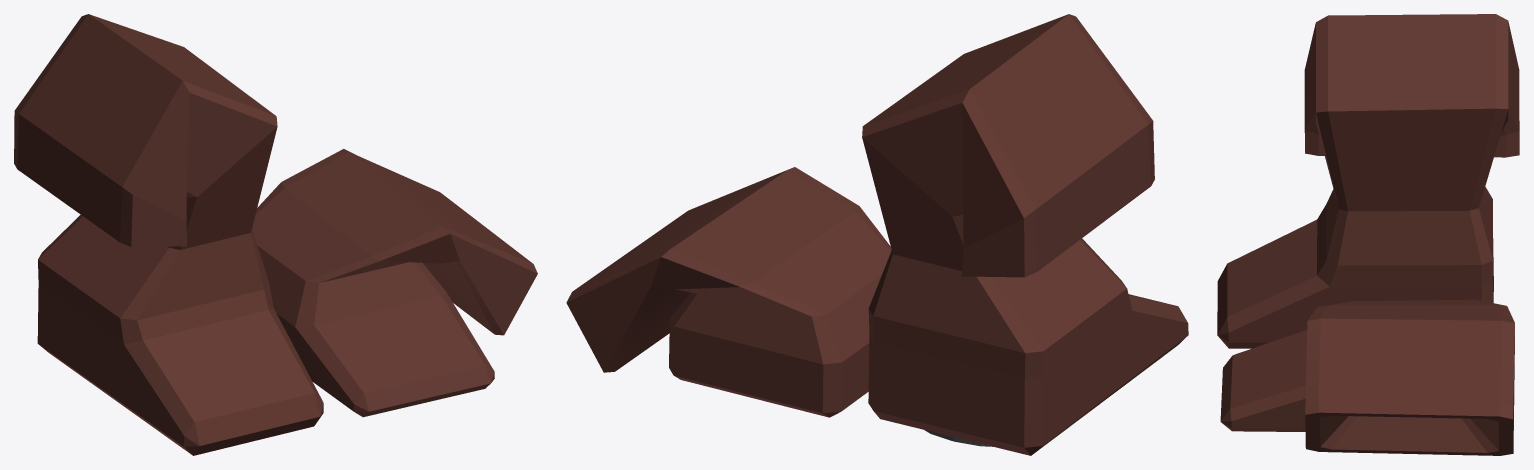
File: shoes_4.fbx
3 renders of one model, left to right at view 1: azimuth 30°, elevation 25°; view 2: azimuth 150°, elevation 25°; view 3: azimuth 270°, elevation 25°, orthographic. The views are drawn at different scales.
Visible parts, largest first — view 1: shoes_4; view 2: shoes_4; view 3: shoes_4.
Boxes of the visible parts, <box> form: shoes_4: <box>14,14,537,455</box>; shoes_4: <box>566,14,1188,455</box>; shoes_4: <box>1217,14,1519,455</box>.
Bounding box in the file's own units: 27.52 × 20.77 × 18.7.
